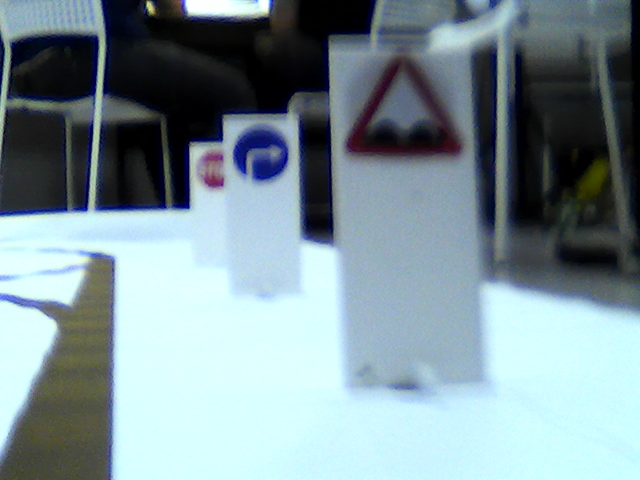Nerov: (343, 53, 461, 161)
Right: (231, 127, 288, 178)
Stop: (199, 153, 224, 188)
